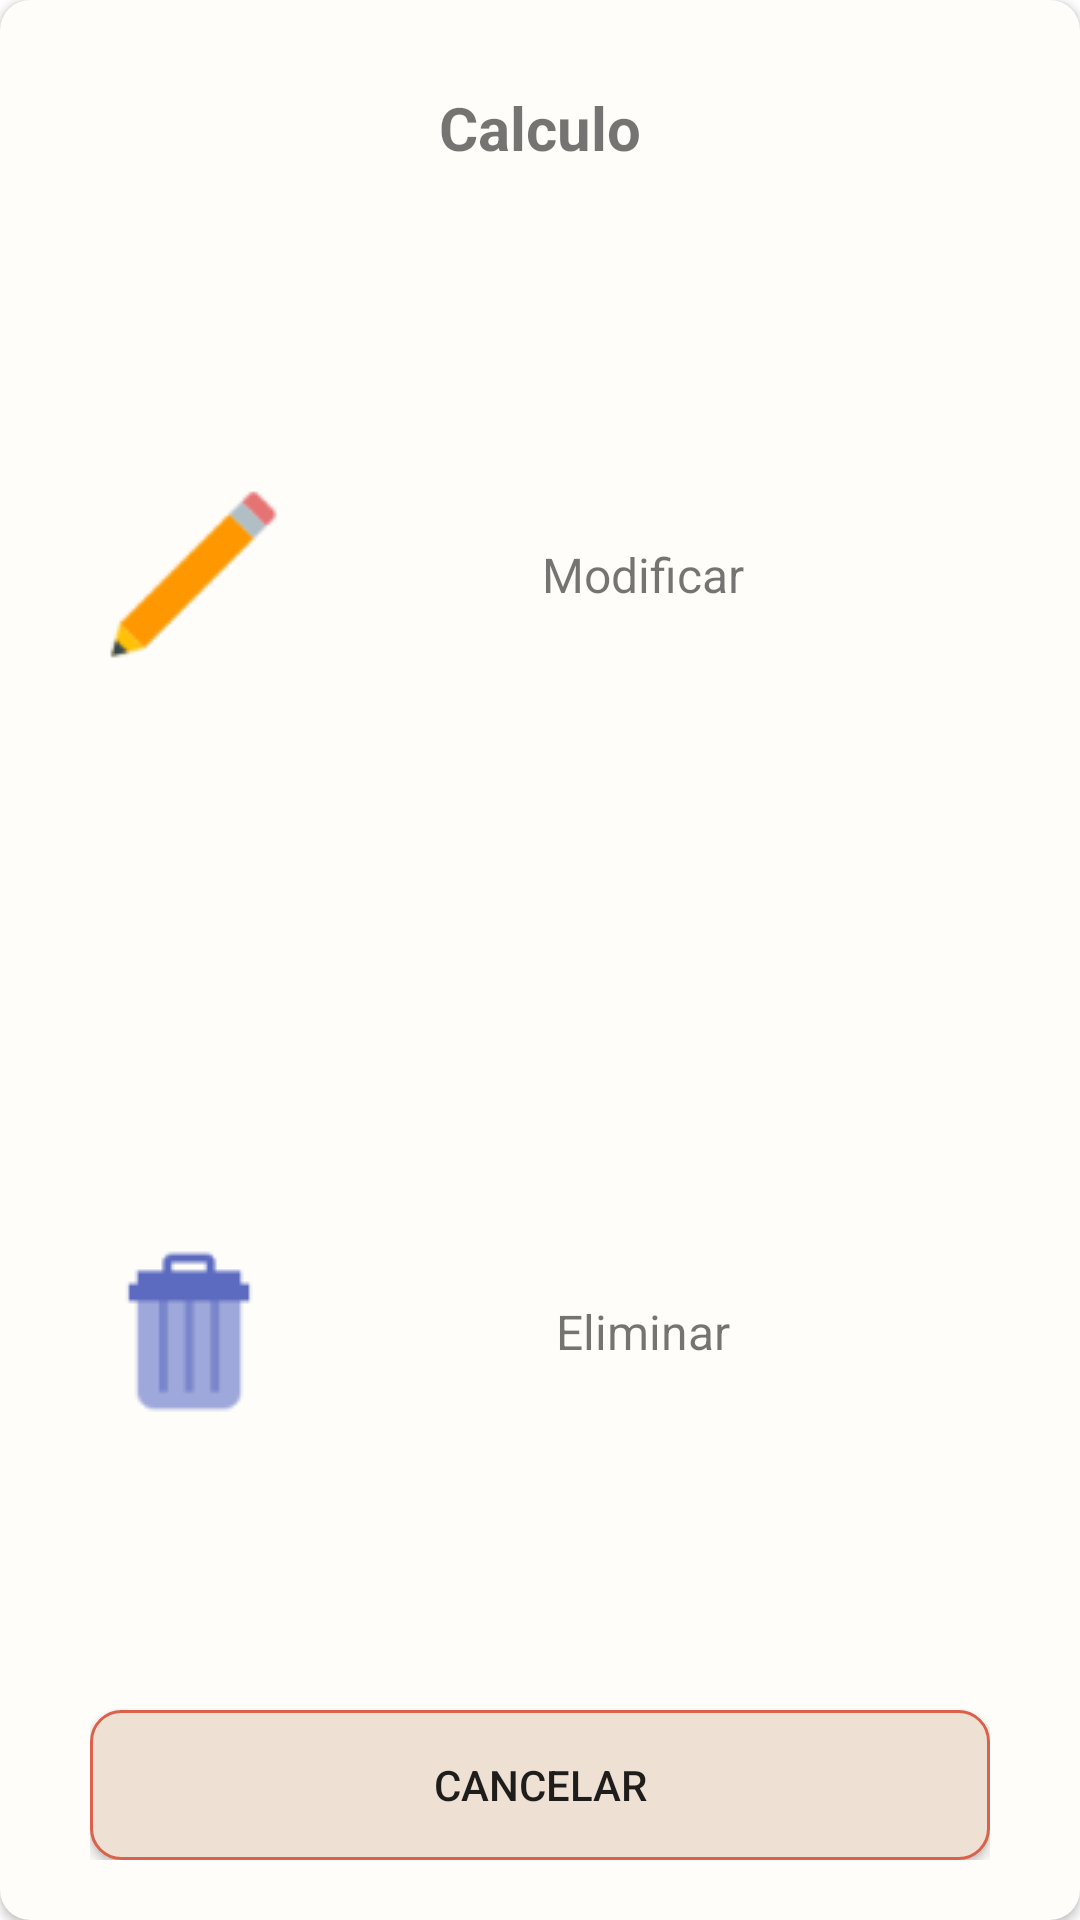

Named icons in this screenshot (1080w x 1920h) and their centers, point (x, y):
pencil: point (193, 574)
trash: point (189, 1331)
